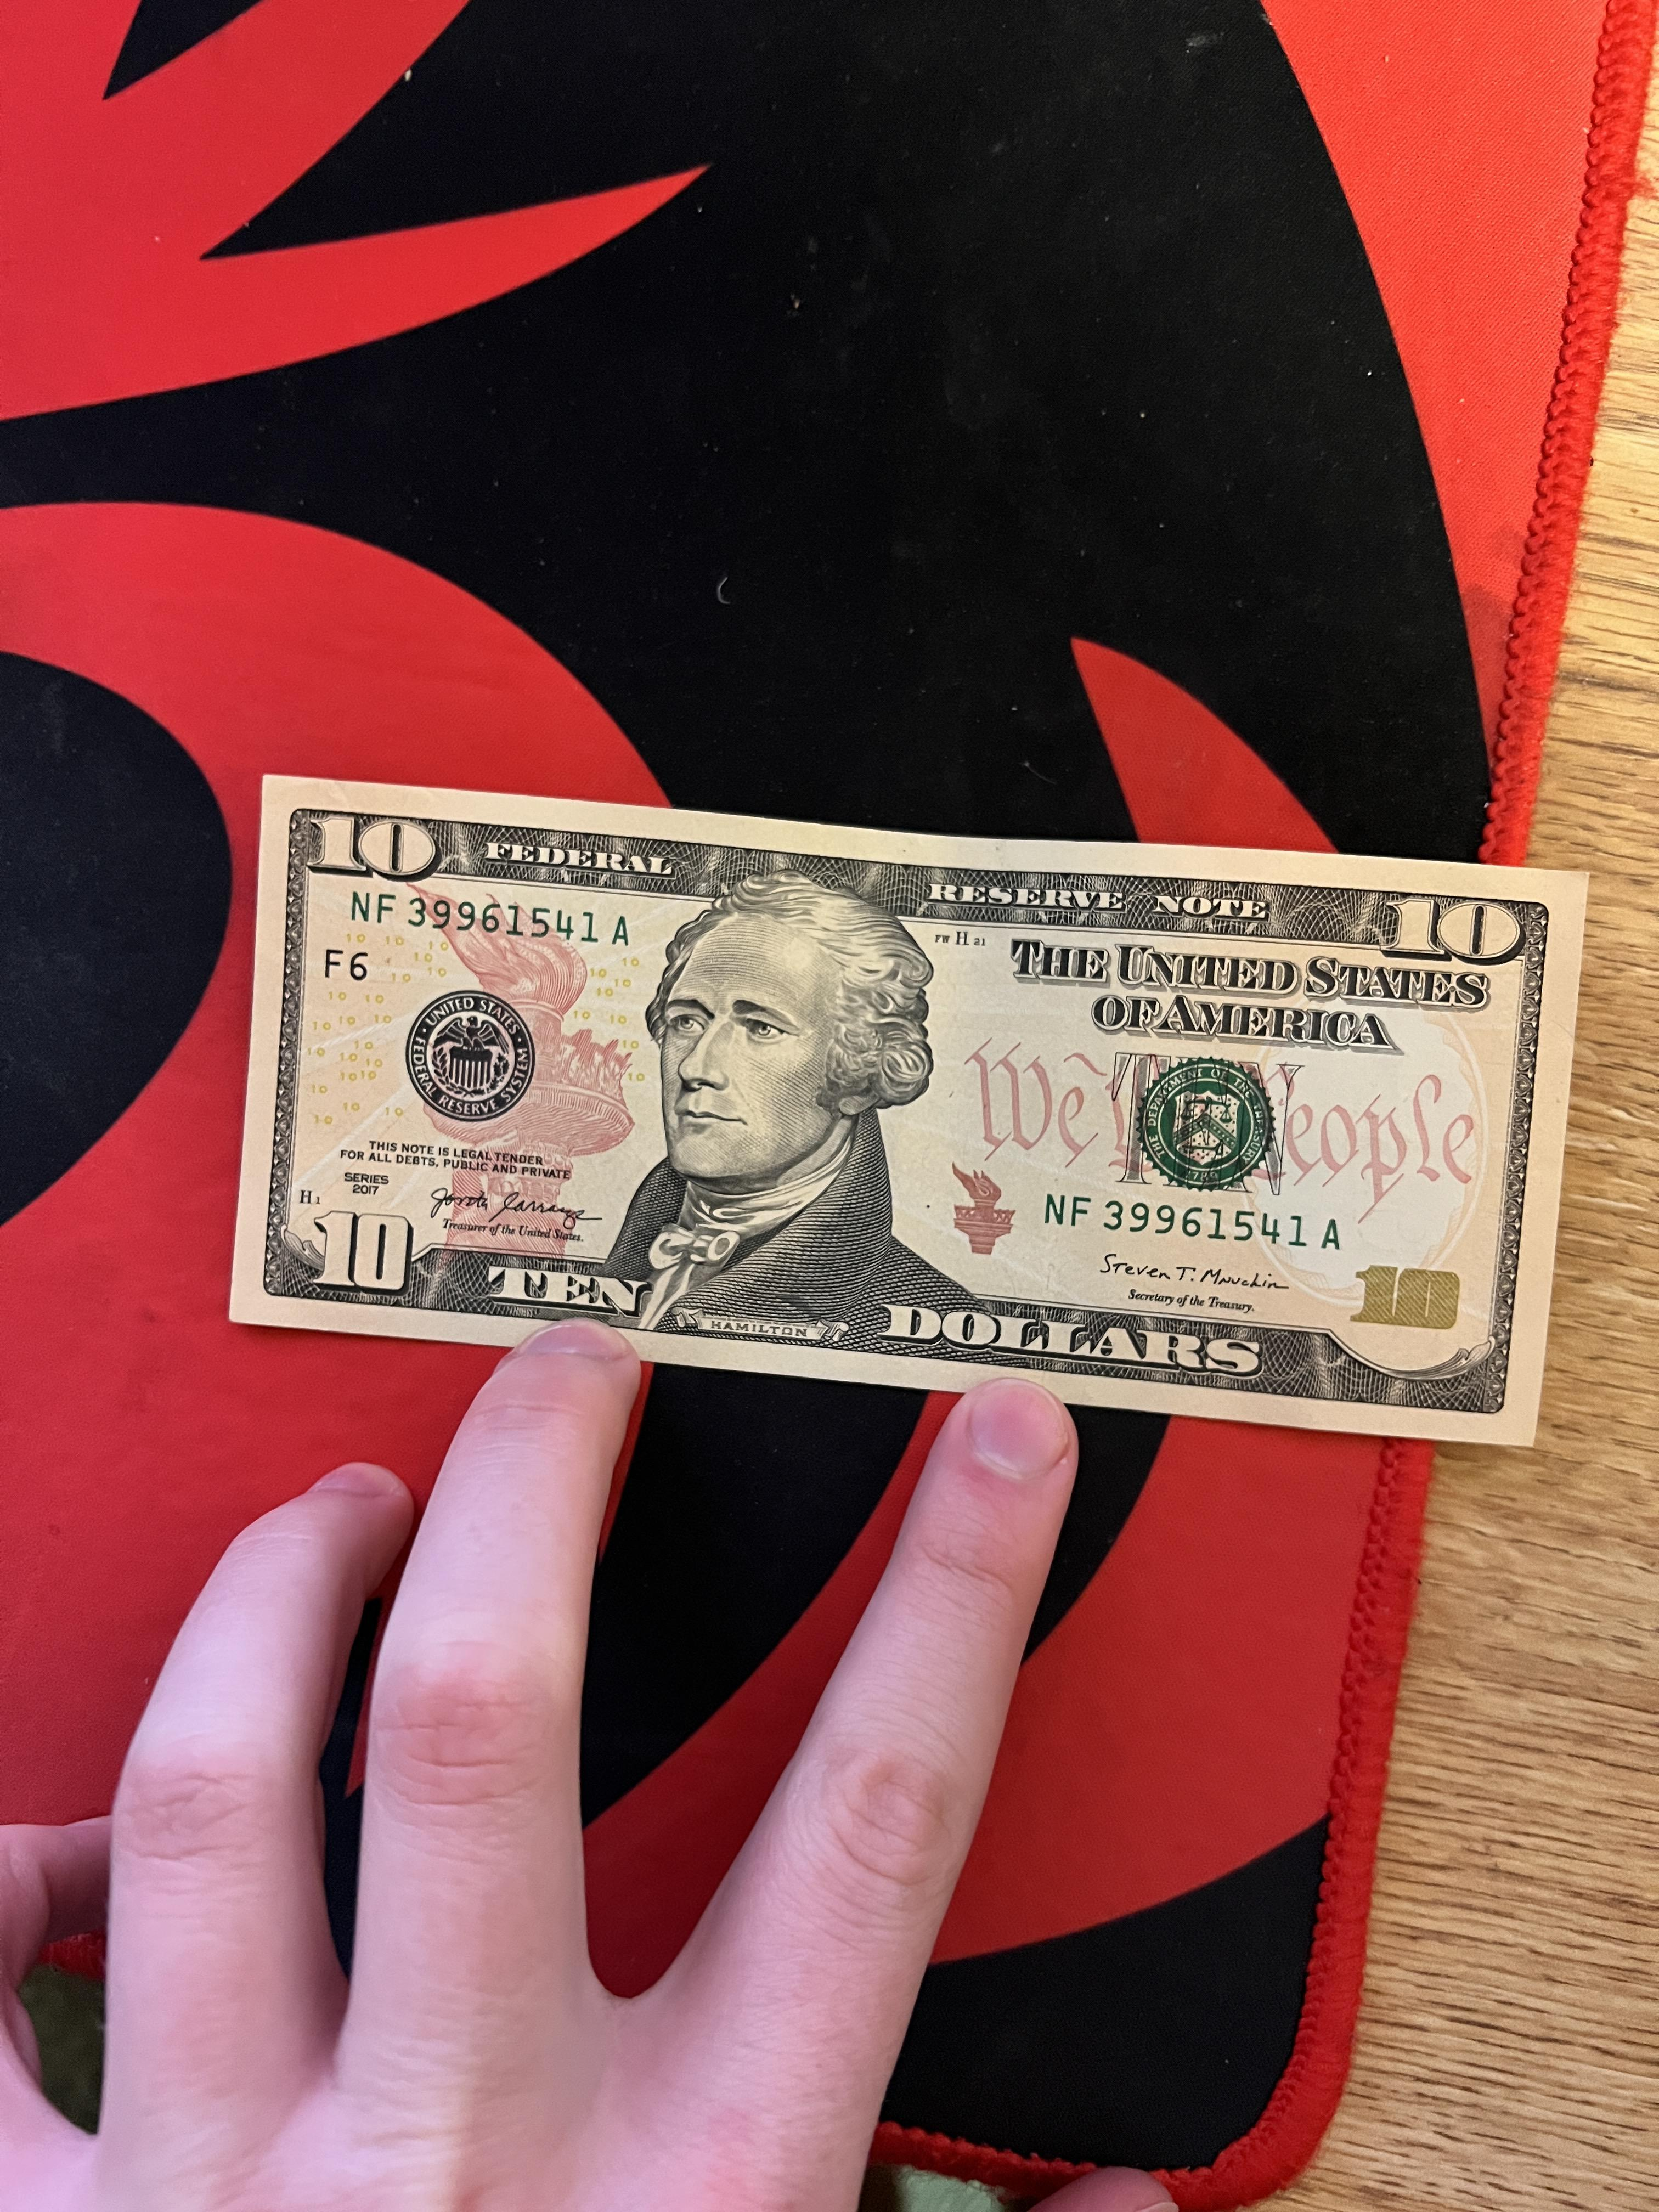TenBill: (221, 773, 1586, 1451)
